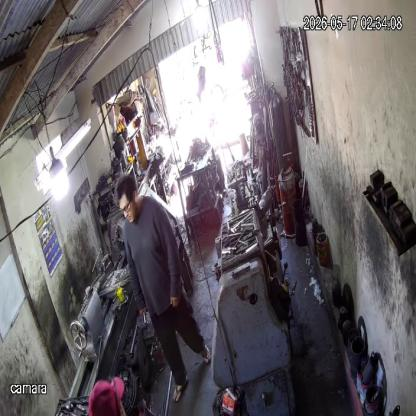lentes: (116, 198, 135, 216)
